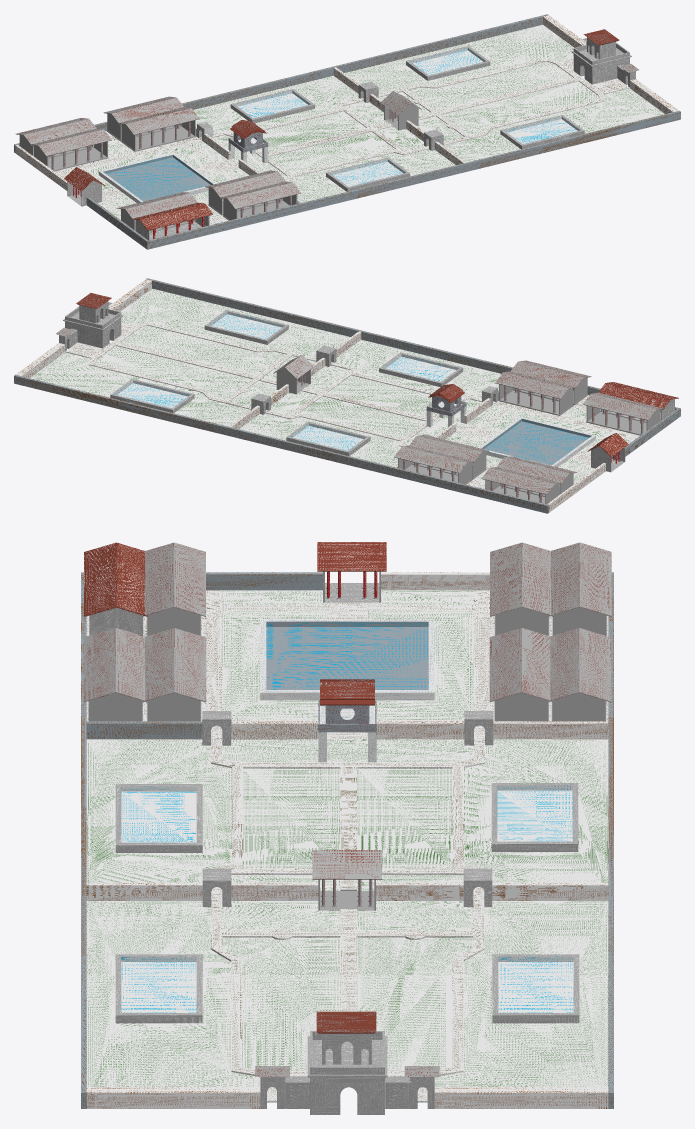
Rendered from VanMieu.obj.
3 views of the same model, one above another, from view 1: azimuth 30°, elevation 25°; view 2: azimuth 150°, elevation 25°; view 3: azimuth 270°, elevation 25° (orthographic). The views are drawn at different scales.
Visible parts, largest first — view 1: Mesh395 Model, Mesh302 Group8 Model, Mesh173 Group5 Model, Mesh1 Group1 Model, Mesh44 Group2 Model, Mesh130 Group4 Model, Mesh259 Group7 Model, Mesh87 Group3 Model, Mesh216 Group6 Model, Mesh345 Group9 Model; view 2: Mesh395 Model, Mesh130 Group4 Model, Mesh87 Group3 Model, Mesh259 Group7 Model, Mesh216 Group6 Model, Mesh1 Group1 Model, Mesh302 Group8 Model, Mesh173 Group5 Model, Mesh44 Group2 Model, Mesh345 Group9 Model; view 3: Mesh395 Model, Mesh302 Group8 Model, Mesh1 Group1 Model, Mesh130 Group4 Model, Mesh259 Group7 Model, Mesh87 Group3 Model, Mesh173 Group5 Model, Mesh216 Group6 Model, Mesh44 Group2 Model, Mesh345 Group9 Model, Mesh396 Model.
Part boxes in pixels (bbox=[...]): Mesh395 Model: bbox=[14, 14, 680, 249]; Mesh302 Group8 Model: bbox=[118, 107, 199, 151]; Mesh173 Group5 Model: bbox=[30, 128, 111, 171]; Mesh1 Group1 Model: bbox=[219, 181, 300, 220]; Mesh44 Group2 Model: bbox=[132, 202, 213, 240]; Mesh130 Group4 Model: bbox=[205, 170, 285, 215]; Mesh259 Group7 Model: bbox=[103, 96, 183, 141]; Mesh87 Group3 Model: bbox=[117, 192, 197, 232]; Mesh216 Group6 Model: bbox=[16, 118, 96, 158]; Mesh345 Group9 Model: bbox=[380, 91, 421, 130]; Mesh395 Model: bbox=[14, 278, 680, 513]; Mesh130 Group4 Model: bbox=[495, 371, 576, 415]; Mesh87 Group3 Model: bbox=[583, 392, 664, 435]; Mesh259 Group7 Model: bbox=[394, 445, 475, 484]; Mesh216 Group6 Model: bbox=[481, 467, 562, 504]; Mesh1 Group1 Model: bbox=[511, 360, 591, 405]; Mesh302 Group8 Model: bbox=[409, 434, 489, 479]; Mesh173 Group5 Model: bbox=[497, 456, 577, 496]; Mesh44 Group2 Model: bbox=[598, 382, 678, 422]; Mesh345 Group9 Model: bbox=[273, 355, 314, 394]; Mesh395 Model: bbox=[81, 542, 613, 1114]; Mesh302 Group8 Model: bbox=[489, 628, 553, 721]; Mesh1 Group1 Model: bbox=[83, 628, 147, 721]; Mesh130 Group4 Model: bbox=[142, 628, 206, 721]; Mesh259 Group7 Model: bbox=[547, 628, 610, 721]; Mesh87 Group3 Model: bbox=[142, 542, 205, 635]; Mesh173 Group5 Model: bbox=[490, 542, 553, 635]; Mesh216 Group6 Model: bbox=[547, 542, 611, 635]; Mesh44 Group2 Model: bbox=[84, 542, 148, 635]; Mesh345 Group9 Model: bbox=[312, 850, 381, 910]; Mesh396 Model: bbox=[316, 1011, 376, 1033].
Bounding box in the file's own units: 21.87 × 1.55 × 9.21.
